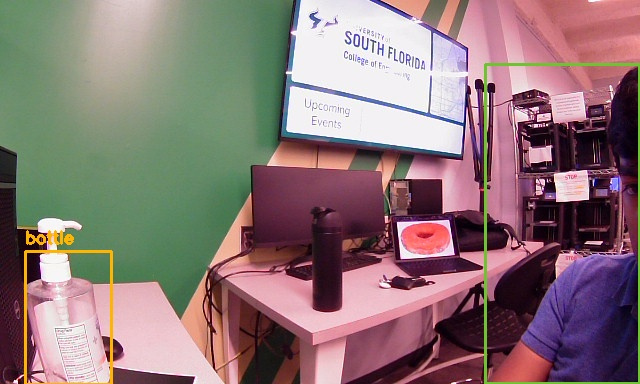bottle: (25, 251, 111, 384)
